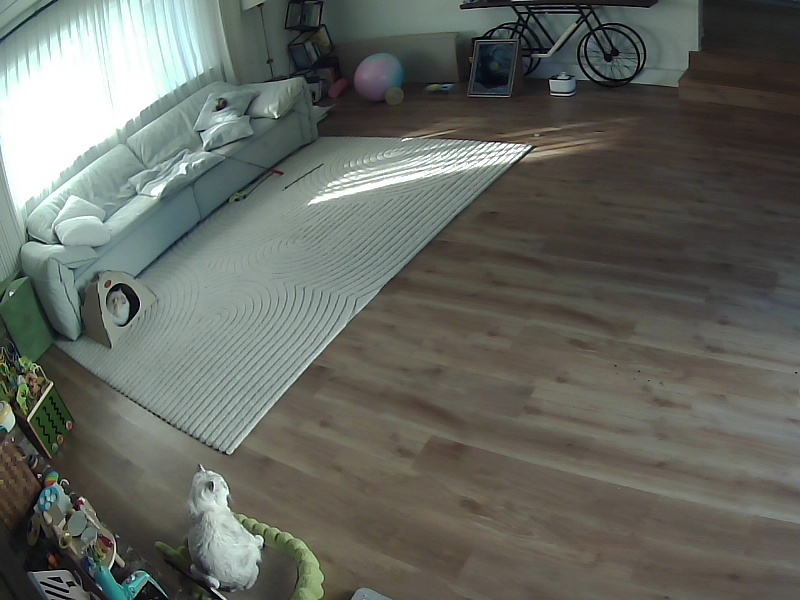Qb-2: (187, 465, 263, 590)
Qbo-2: (106, 289, 130, 325)
